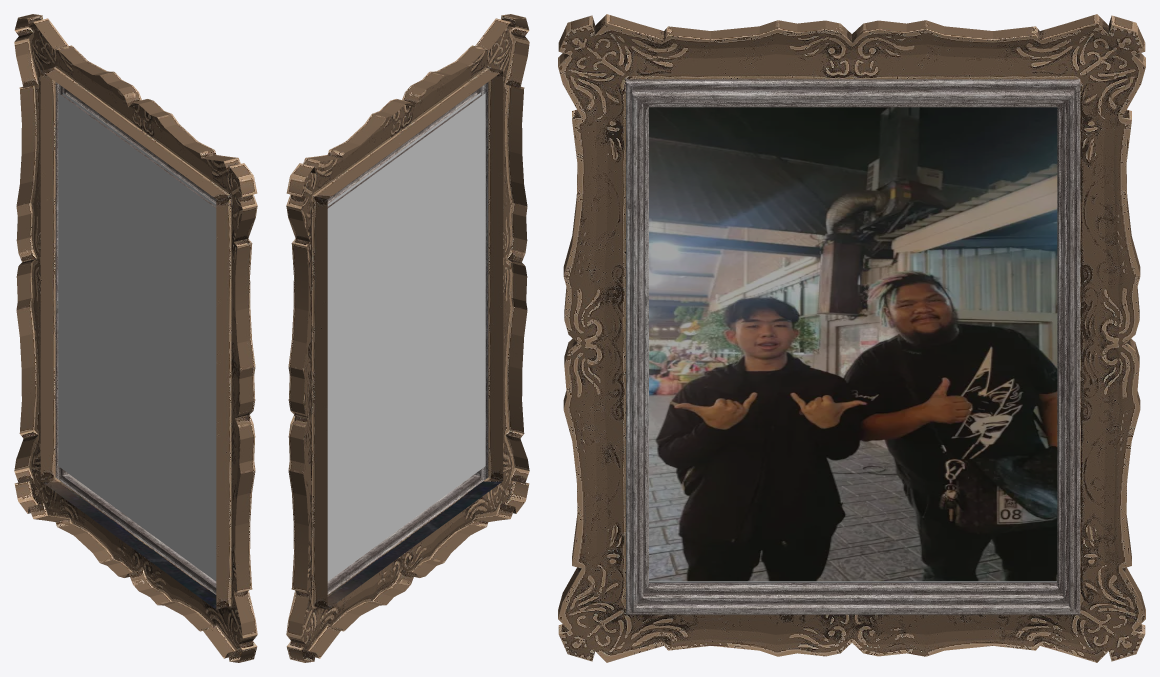
The model's file is pic.glb.
3 renders of one model, left to right at view 1: azimuth 30°, elevation 25°; view 2: azimuth 150°, elevation 25°; view 3: azimuth 270°, elevation 25°, orthographic. The views are drawn at different scales.
Parts seen in each view (by area): view 1: Plane.002; view 2: Plane.002; view 3: Plane.002.
Boxes of the visible parts, x1=… form: Plane.002: x1=14, y1=14, x2=257, y2=662; Plane.002: x1=286, y1=14, x2=529, y2=662; Plane.002: x1=558, y1=14, x2=1145, y2=662.
Size of the model in its own units: 0.1164 by 2 by 1.67.
Materials: 4 (2 with a texture image).
